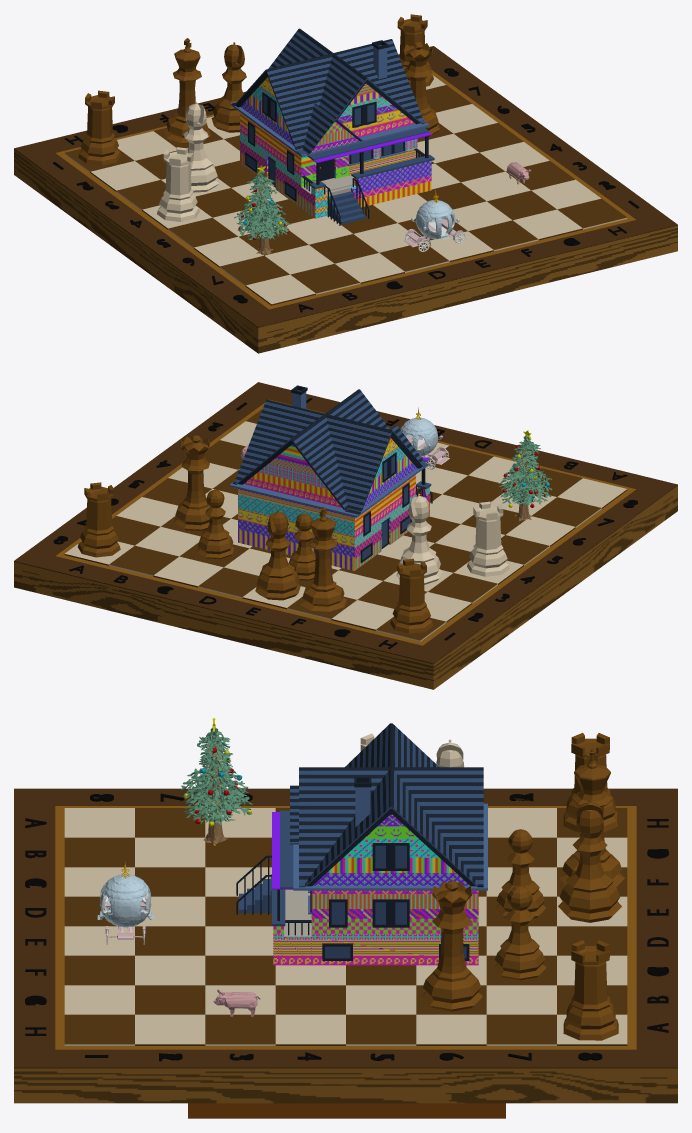
3 views of the same model, one above another, from view 1: azimuth 30°, elevation 25°; view 2: azimuth 150°, elevation 25°; view 3: azimuth 270°, elevation 25° (orthographic). The views are drawn at different scales.
Parts seen in each view (by area): view 1: Cube.002, Cube.676, OBJRANDOM_CHRISTMAS_TREE, VEHICLES_FANTASY_CARRIAGE; view 2: Cube.002, Cube.676, OBJRANDOM_CHRISTMAS_TREE, VEHICLES_FANTASY_CARRIAGE; view 3: Cube.002, Cube.676, UNDERGROUND_ART_PIECE_VAN_GOGH, OBJRANDOM_CHRISTMAS_TREE, VEHICLES_FANTASY_CARRIAGE, ANIMAL_CERDO.
Part boxes in pixels (x1=…): Cube.002: x1=14, y1=14, x2=677, y2=353; Cube.676: x1=230, y1=28, x2=434, y2=225; OBJRANDOM_CHRISTMAS_TREE: x1=234, y1=165, x2=290, y2=255; VEHICLES_FANTASY_CARRIAGE: x1=404, y1=190, x2=465, y2=251; Cube.002: x1=14, y1=382, x2=677, y2=689; Cube.676: x1=229, y1=385, x2=432, y2=570; OBJRANDOM_CHRISTMAS_TREE: x1=498, y1=430, x2=552, y2=521; VEHICLES_FANTASY_CARRIAGE: x1=400, y1=407, x2=449, y2=469; Cube.002: x1=14, y1=732, x2=677, y2=1103; Cube.676: x1=236, y1=723, x2=487, y2=965; UNDERGROUND_ART_PIECE_VAN_GOGH: x1=188, y1=1103, x2=505, y2=1118; OBJRANDOM_CHRISTMAS_TREE: x1=181, y1=718, x2=252, y2=845; VEHICLES_FANTASY_CARRIAGE: x1=97, y1=861, x2=153, y2=944; ANIMAL_CERDO: x1=213, y1=989, x2=260, y2=1016.
Size of the model in its own units: 3981 by 1610 by 4012.
36 materials, 7 textured.
